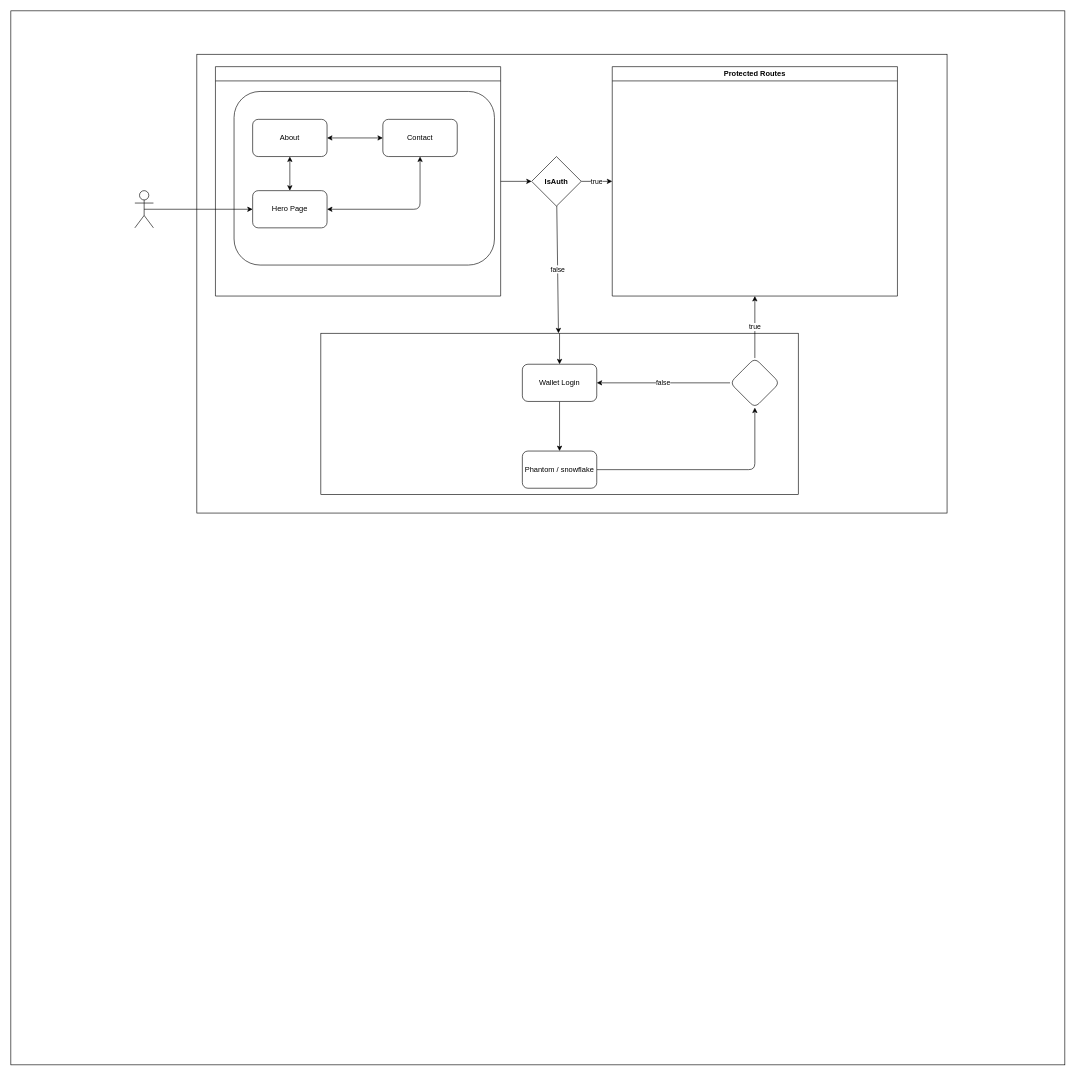
Image size: 1076x1076. Some labels were removed from this diagram. The shapes that lost their labels are listed below. From the top down, each one's box as (x1, y1, x2, y2) in pixels, then its label:
(215, 66, 501, 296): Public Routes
(134, 190, 153, 228): user
(729, 357, 780, 408): successful Authentication
